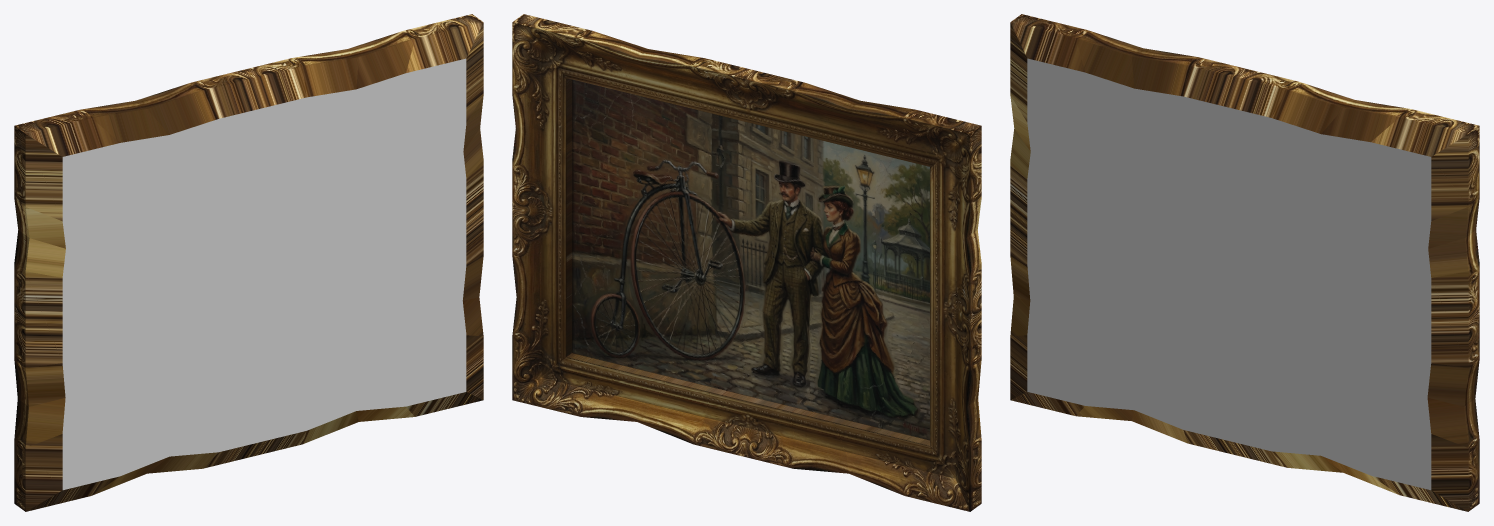
The model's file is Painting_03.fbx.
3 views of the same model, side by side, from view 1: azimuth 30°, elevation 25°; view 2: azimuth 150°, elevation 25°; view 3: azimuth 330°, elevation 25° (orthographic).
Visible parts, largest first — view 1: Paintng_2; view 2: Paintng_2; view 3: Paintng_2.
Part boxes in pixels (x1,y1,x2,y2): Paintng_2: (14, 14, 483, 511); Paintng_2: (512, 14, 981, 511); Paintng_2: (1010, 14, 1479, 511).
Size of the model in its own units: 0.0818 by 1.02 by 0.802.
2 materials, 1 textured.
